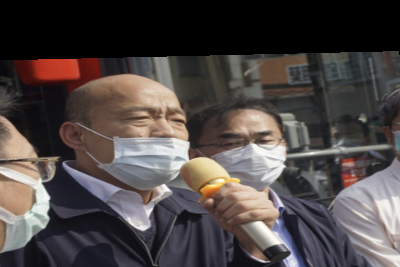mask_weared_incorrect: (60, 69, 196, 189)
